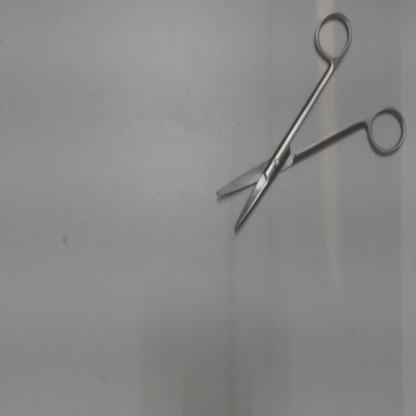Curved Mayo Scissors: (210, 6, 412, 243)
